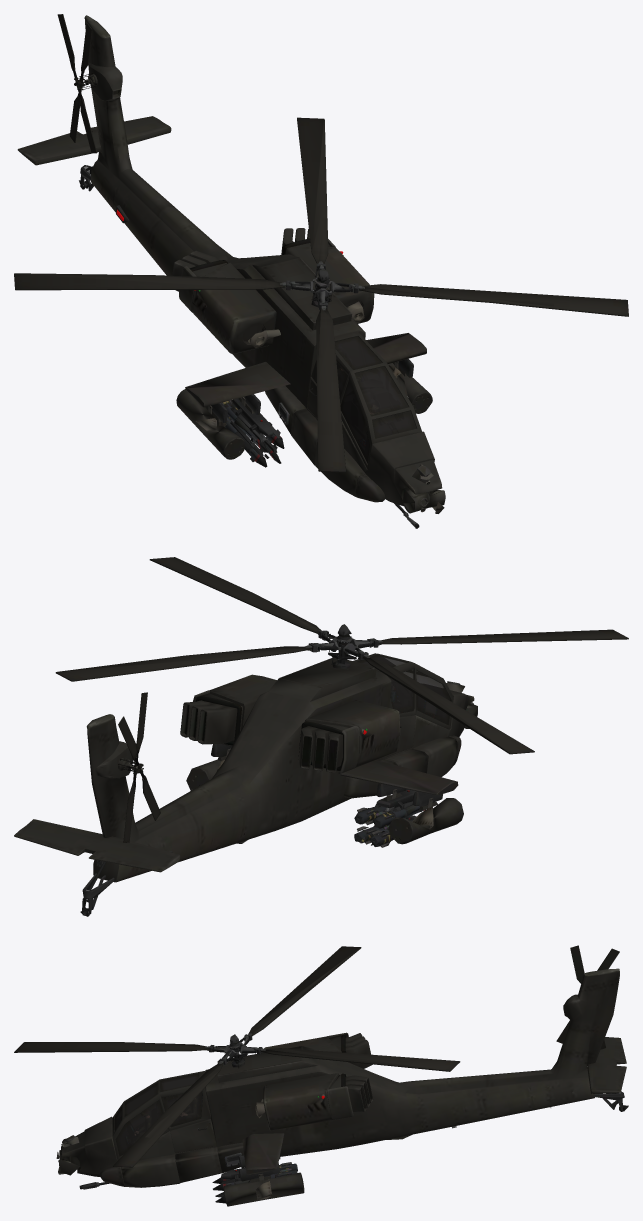
The model's file is helicopter.glb.
The picture shows the model from 3 angles, top to bottom: view 1: azimuth 30°, elevation 25°; view 2: azimuth 150°, elevation 25°; view 3: azimuth 270°, elevation 25°; orthographic projection. The views are drawn at different scales.
Visible parts, largest first — view 1: part_a.3, main_rotor, part_b.4, glass.16, back_fan.15, rotor_hub; view 2: part_a.3, main_rotor, part_b.4, back_fan.15, glass.16, rotor_hub; view 3: part_a.3, main_rotor, part_b.4, glass.16, rotor_hub, back_fan.15.
Part boxes in pixels (left/top/right/bottom): part_a.3: left=17, top=15, right=442, bottom=506; main_rotor: left=14, top=117, right=628, bottom=472; part_b.4: left=79, top=165, right=445, bottom=528; glass.16: left=335, top=336, right=416, bottom=463; back_fan.15: left=57, top=14, right=97, bottom=153; rotor_hub: left=279, top=261, right=364, bottom=310; part_a.3: left=14, top=653, right=474, bottom=882; main_rotor: left=55, top=557, right=628, bottom=754; part_b.4: left=80, top=656, right=477, bottom=916; back_fan.15: left=118, top=692, right=160, bottom=842; glass.16: left=357, top=654, right=450, bottom=724; rotor_hub: left=304, top=624, right=382, bottom=664; part_a.3: left=61, top=968, right=626, bottom=1187; main_rotor: left=14, top=946, right=460, bottom=1167; part_b.4: left=56, top=1056, right=628, bottom=1206; glass.16: left=114, top=1073, right=201, bottom=1156; rotor_hub: left=205, top=1033, right=266, bottom=1064; back_fan.15: left=556, top=945, right=619, bottom=1049.
Bounding box in the file's own units: 9.7 × 5.52 × 13.11.
6 materials, 6 textured.
